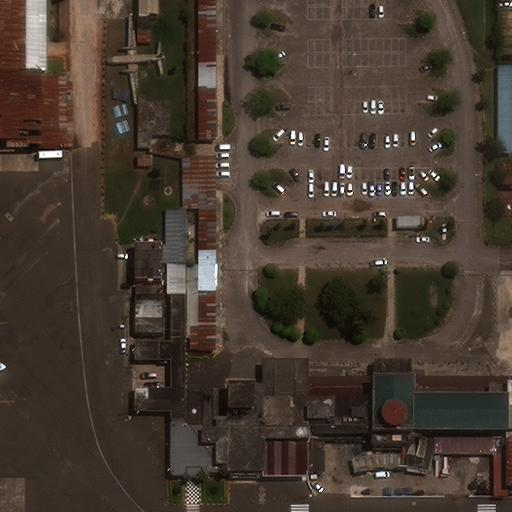Military Transport: (103, 16, 166, 104)
